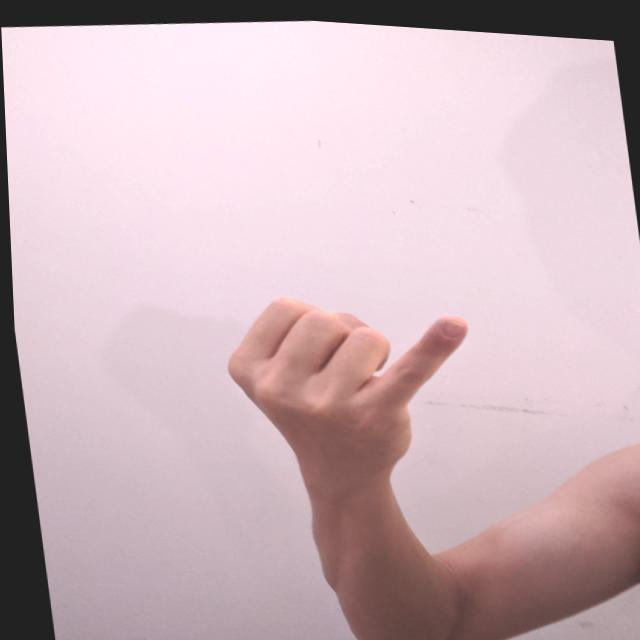J: (205, 264, 497, 497)
